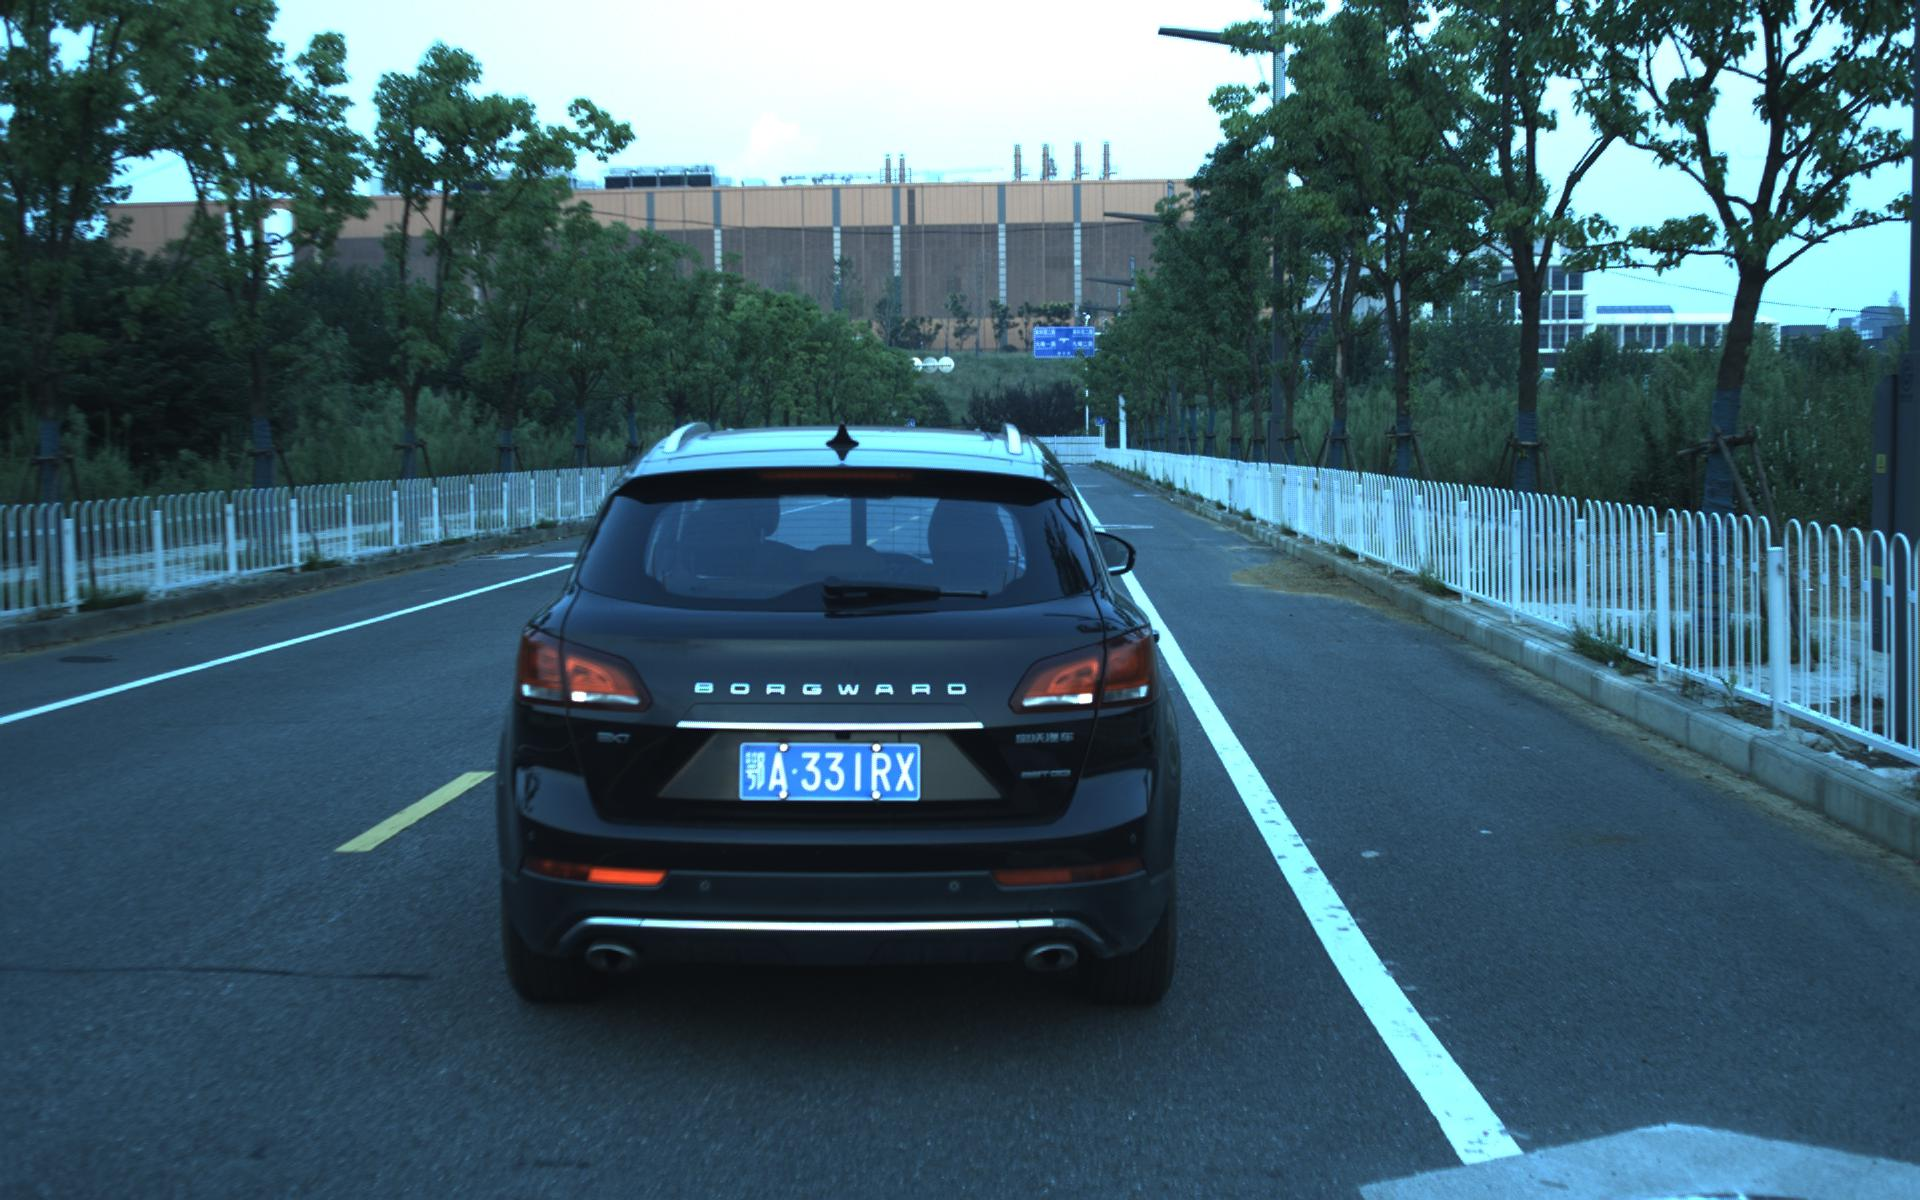Car: (474, 406, 1192, 1011)
